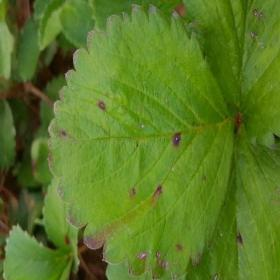Leaf Spot: (47, 4, 237, 279), (182, 126, 279, 279), (181, 0, 279, 149), (41, 177, 81, 273)
